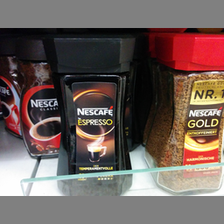coffee: (41, 30, 134, 195), (149, 32, 224, 195)
